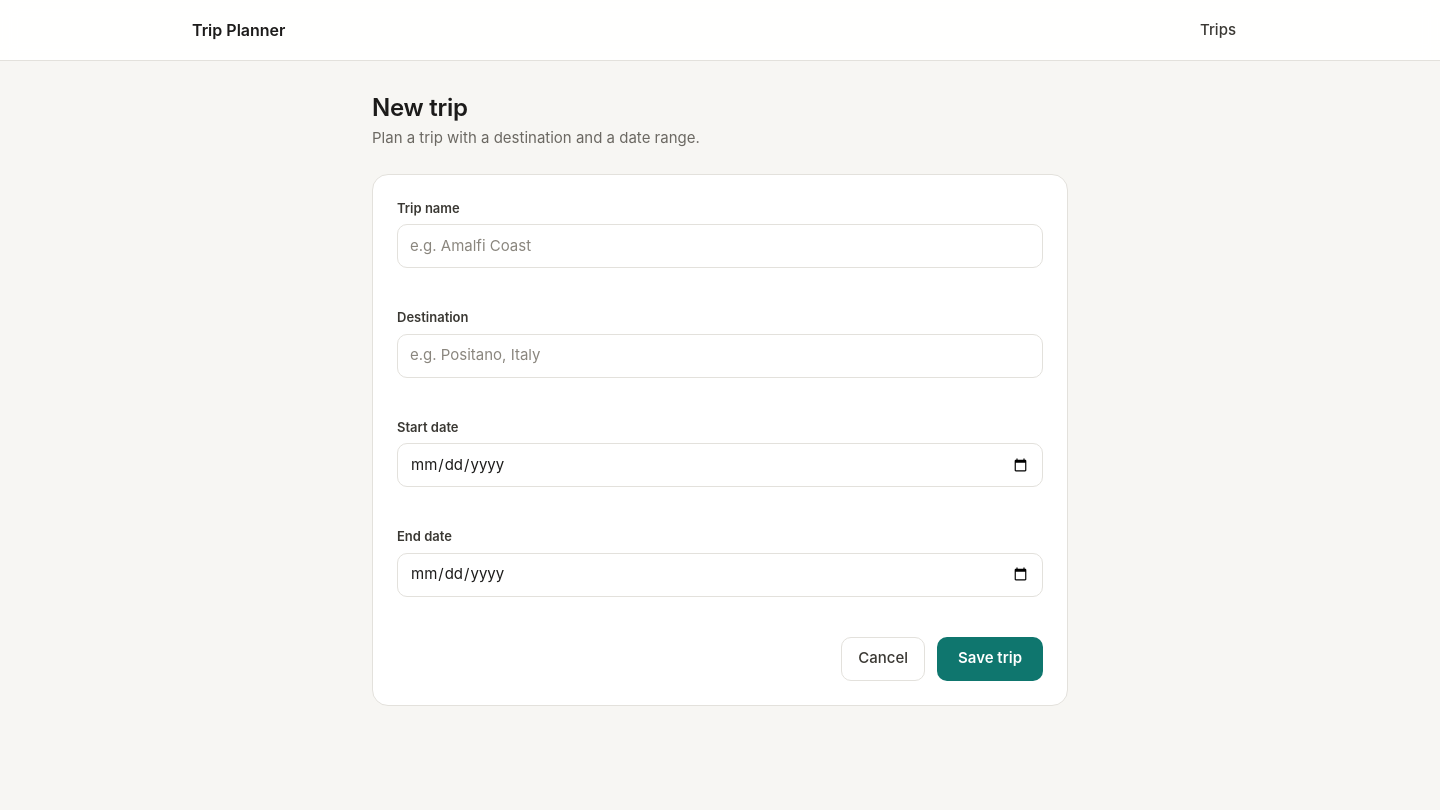
Test: TripsPage › rejects an end date that lies before the start date
Type "Weekend" into the field labelled "Trip name" at {"x": 720, "y": 246}, box [397,224,1043,268]
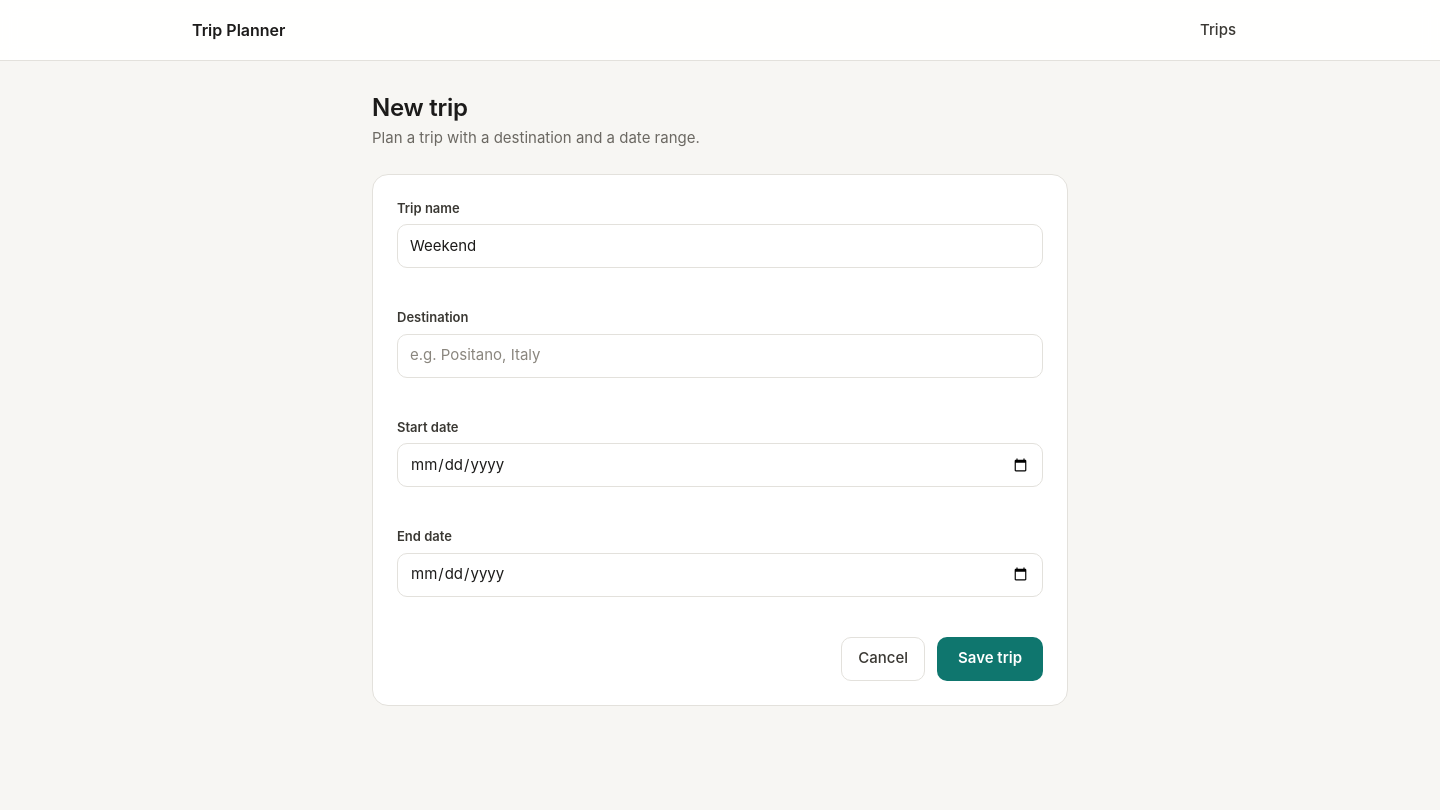
Type "Berlin, Germany" into the field labelled "Destination" at {"x": 720, "y": 356}, box [397,334,1043,378]
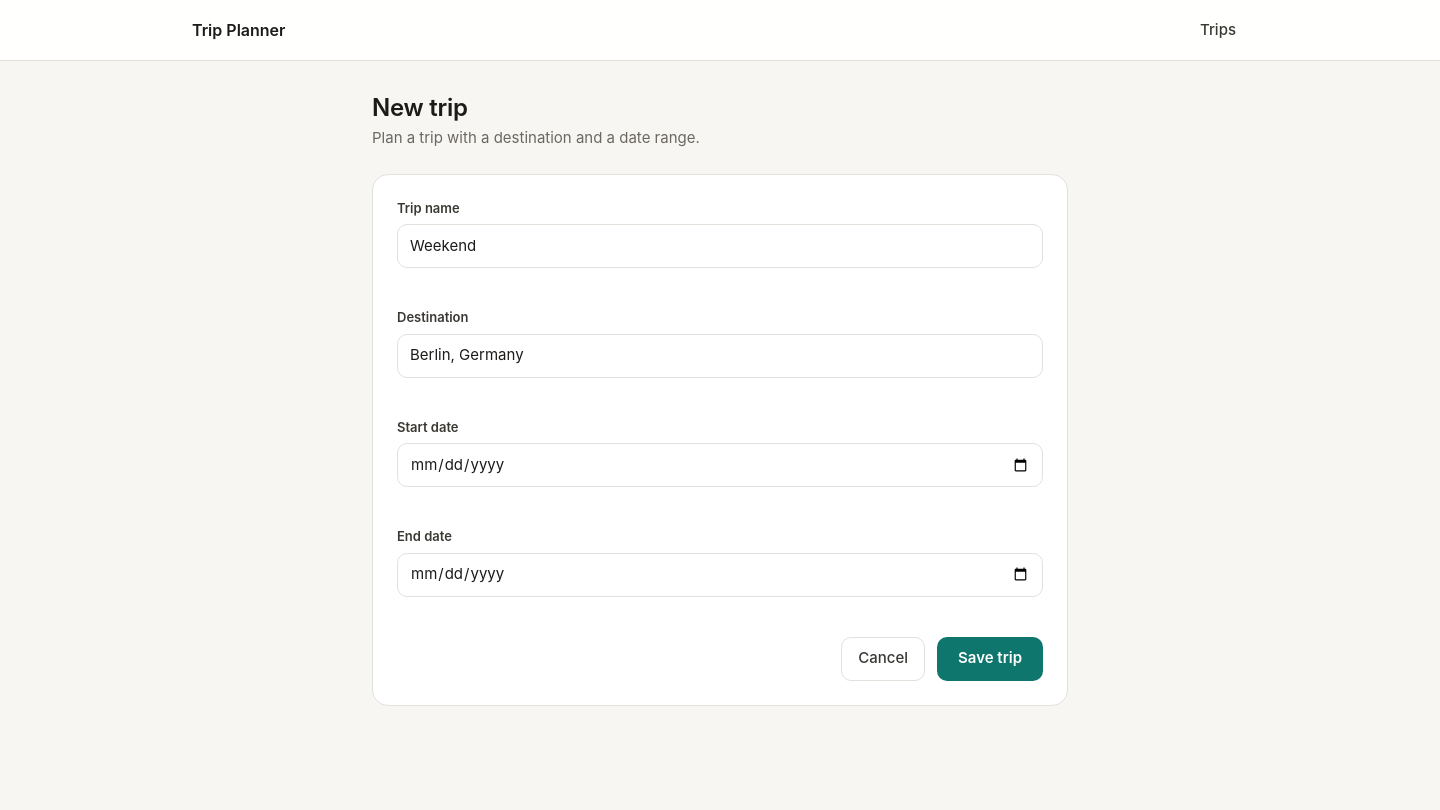
Type "2025-05-18" into the date field labelled "Start date" at {"x": 720, "y": 465}, box [397,443,1043,487]
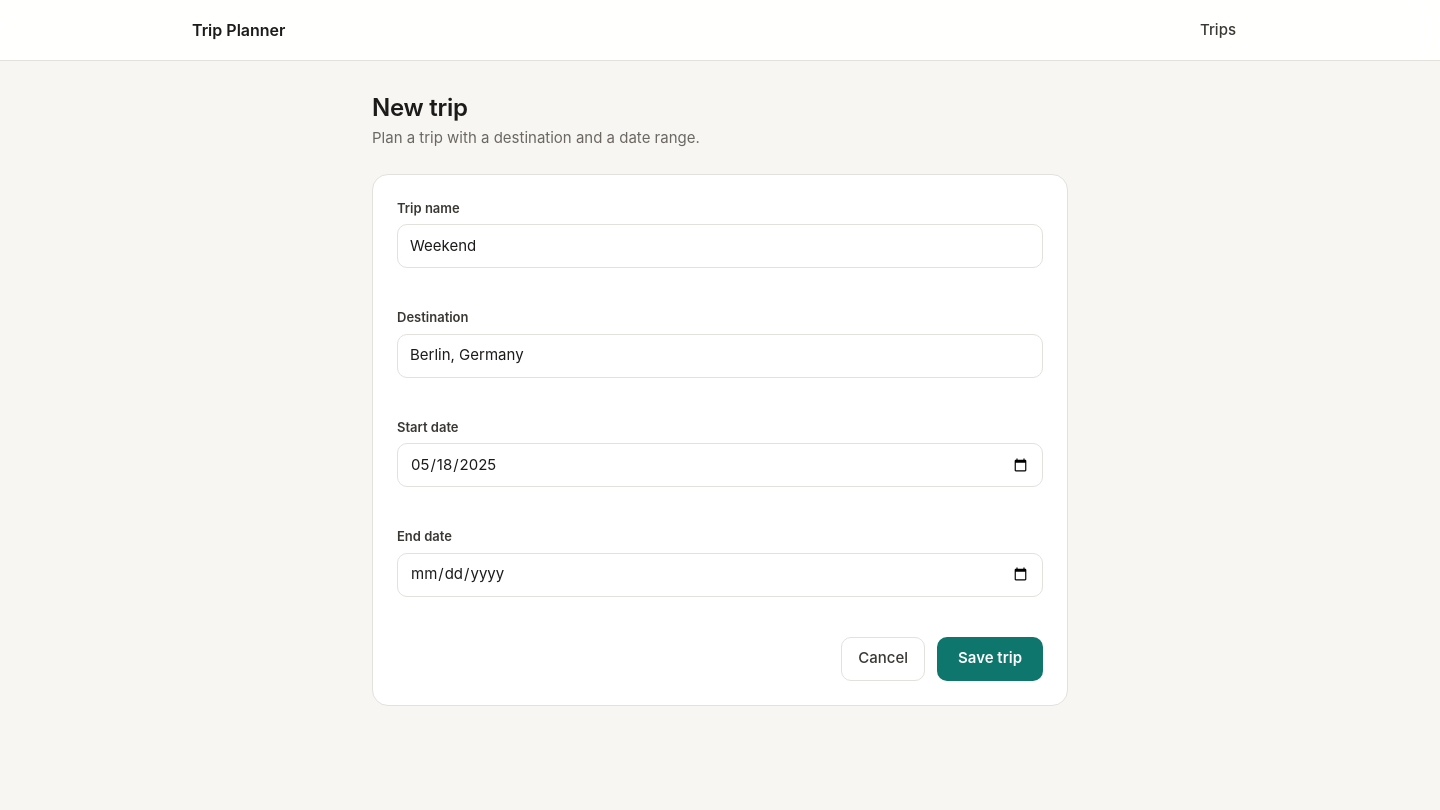
Type "2025-05-12" into the date field labelled "End date" at {"x": 720, "y": 574}, box [397,552,1043,596]
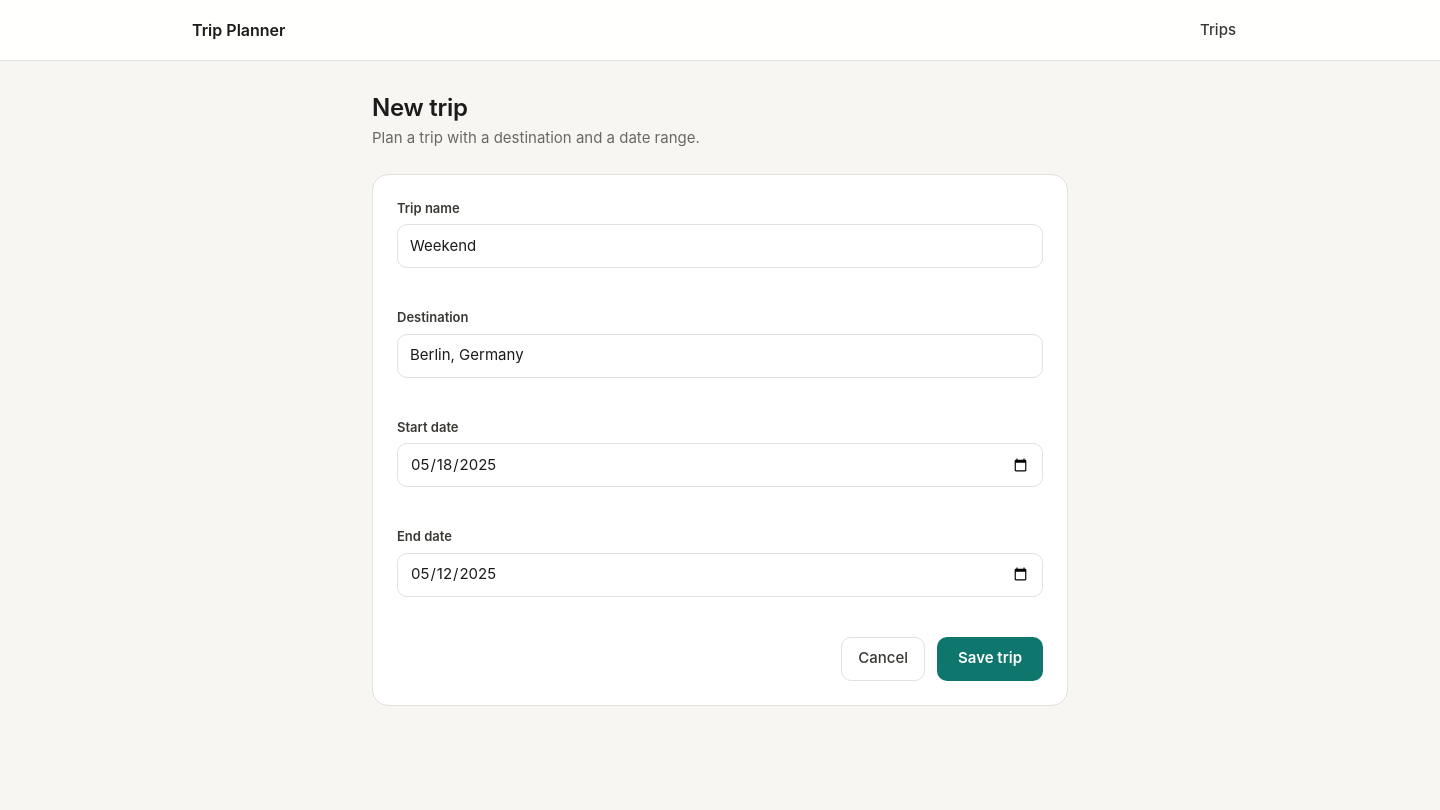
Click the button "Save trip" at {"x": 990, "y": 658}, box [937,636,1043,680]
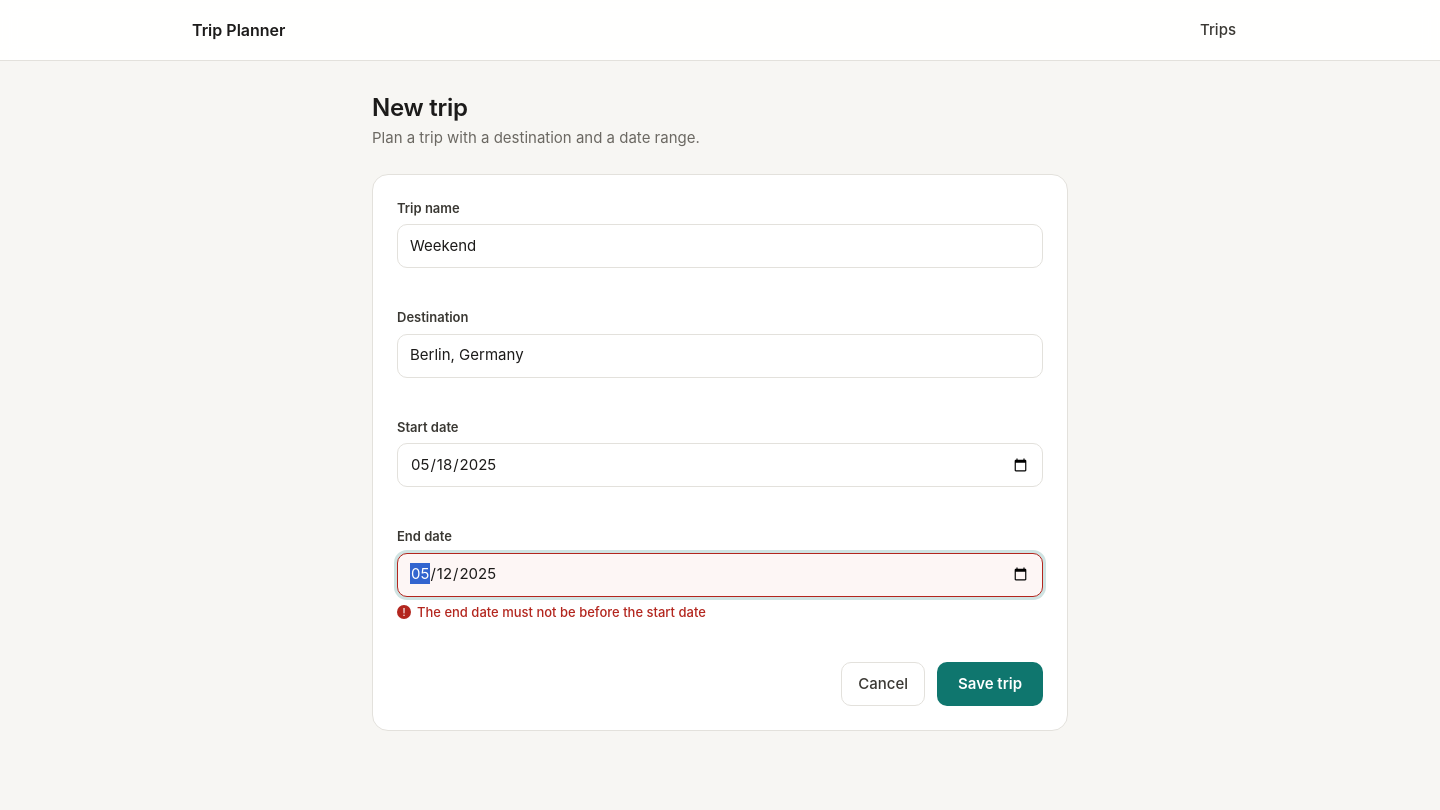
Expected: the text "The end date must not be before the start date" is shown, [417,604,706,620]
